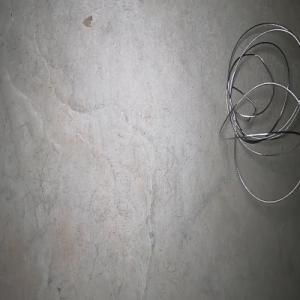Wire: (218, 22, 300, 203)
